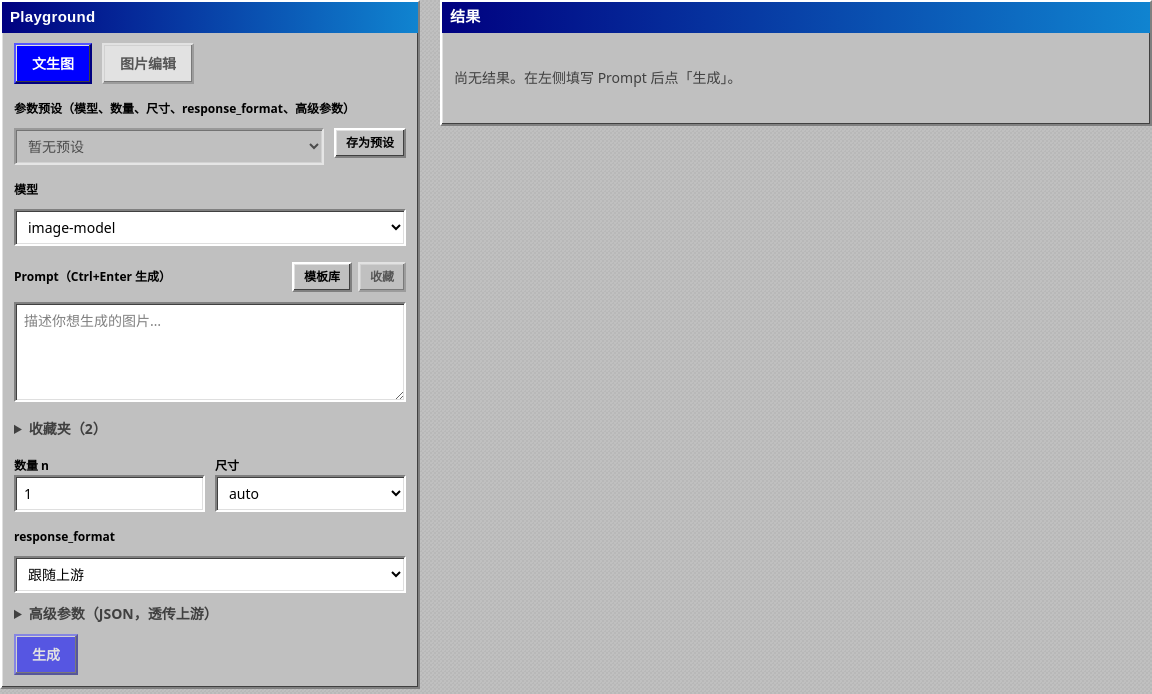
Test: Playground prompt favorites › lists favorites and fills the prompt when one is clicked
Click the heading "收藏夹（2）" at [68, 428], box [29,418,107,438]
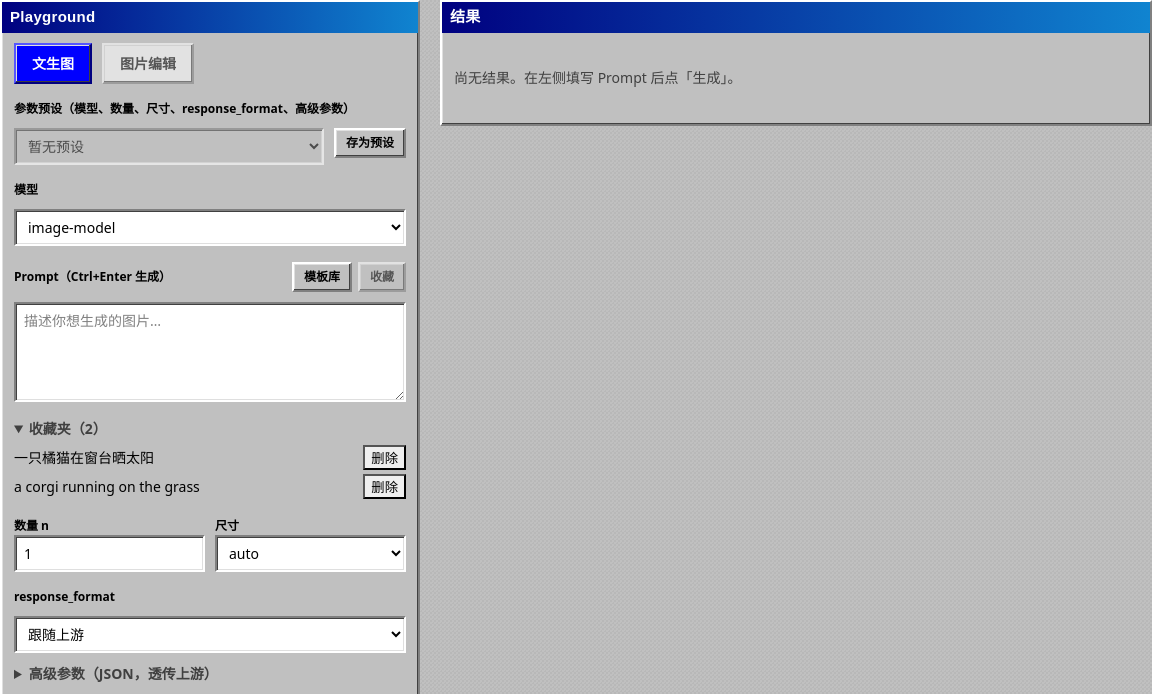
Result: the text "一只橘猫在窗台晒太阳" is shown
Click the button with class "favorite-content" showing "一只橘猫在窗台晒太阳" at [84, 457], box [14,444,355,470]
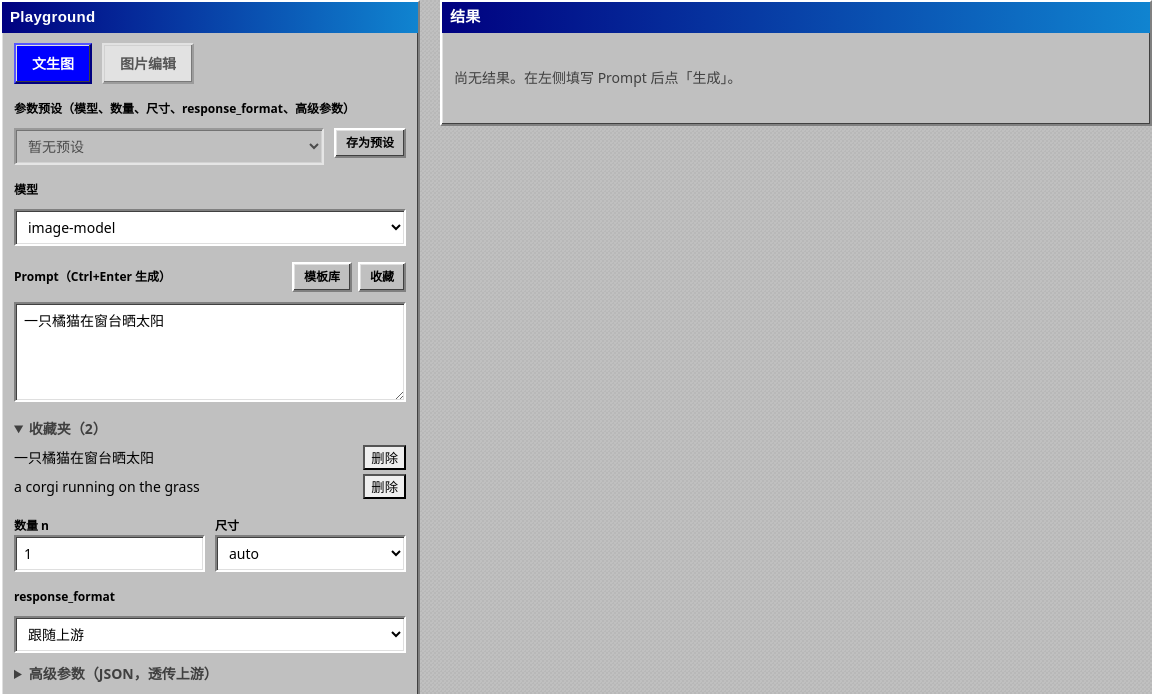
Result: the text box labelled "Prompt（Ctrl+Enter 生成）" holds "一只橘猫在窗台晒太阳" at [14,302,406,402]
